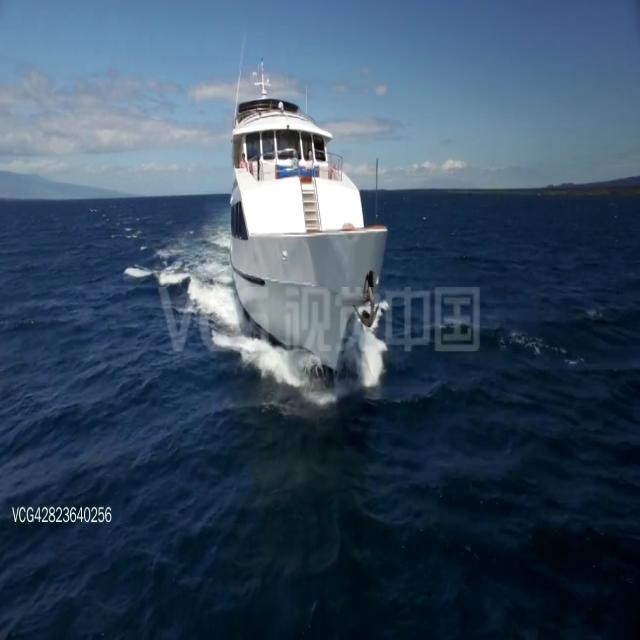houseboat: (229, 89, 386, 362)
